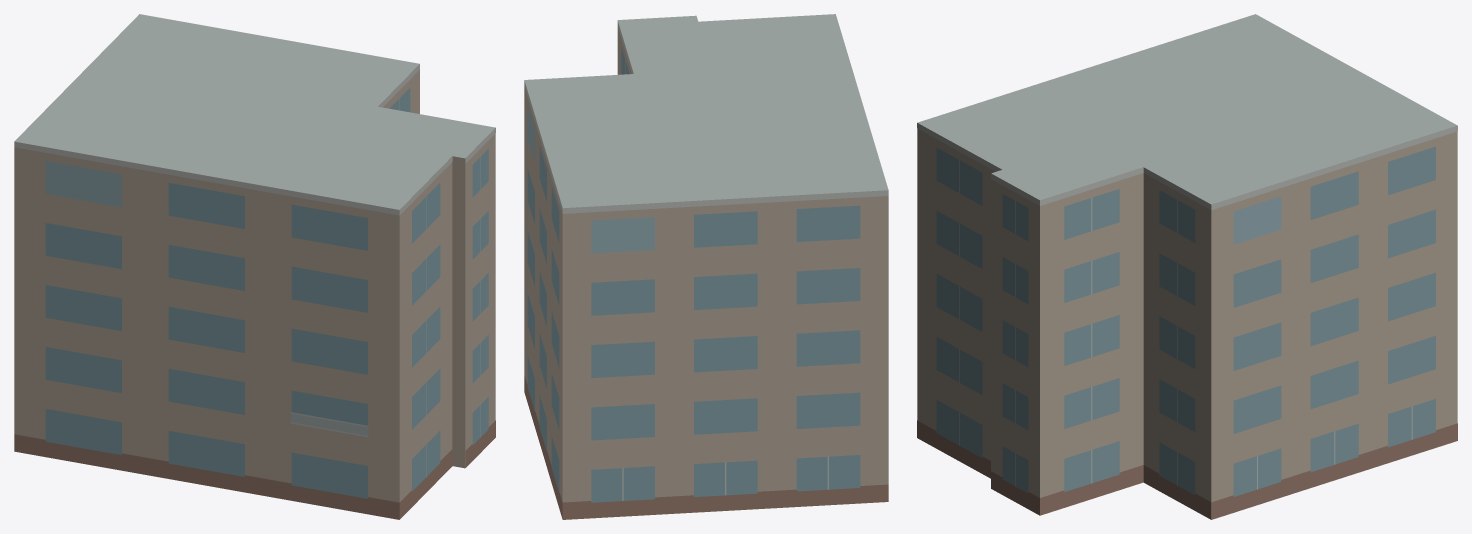
Rendered from survey-upis-32636029.glb.
3 views of the same model, side by side, from view 1: azimuth 30°, elevation 25°; view 2: azimuth 150°, elevation 25°; view 3: azimuth 270°, elevation 25° (orthographic).
Visible parts, largest first — view 1: survey-upis-32636029.tmp; view 2: survey-upis-32636029.tmp; view 3: survey-upis-32636029.tmp.
Part boxes in pixels (x1,y1,x2,y2): survey-upis-32636029.tmp: (14, 14, 495, 519); survey-upis-32636029.tmp: (524, 14, 888, 519); survey-upis-32636029.tmp: (917, 14, 1457, 519).
Size of the model in its own units: 17.38 by 13.4 by 20.83.
